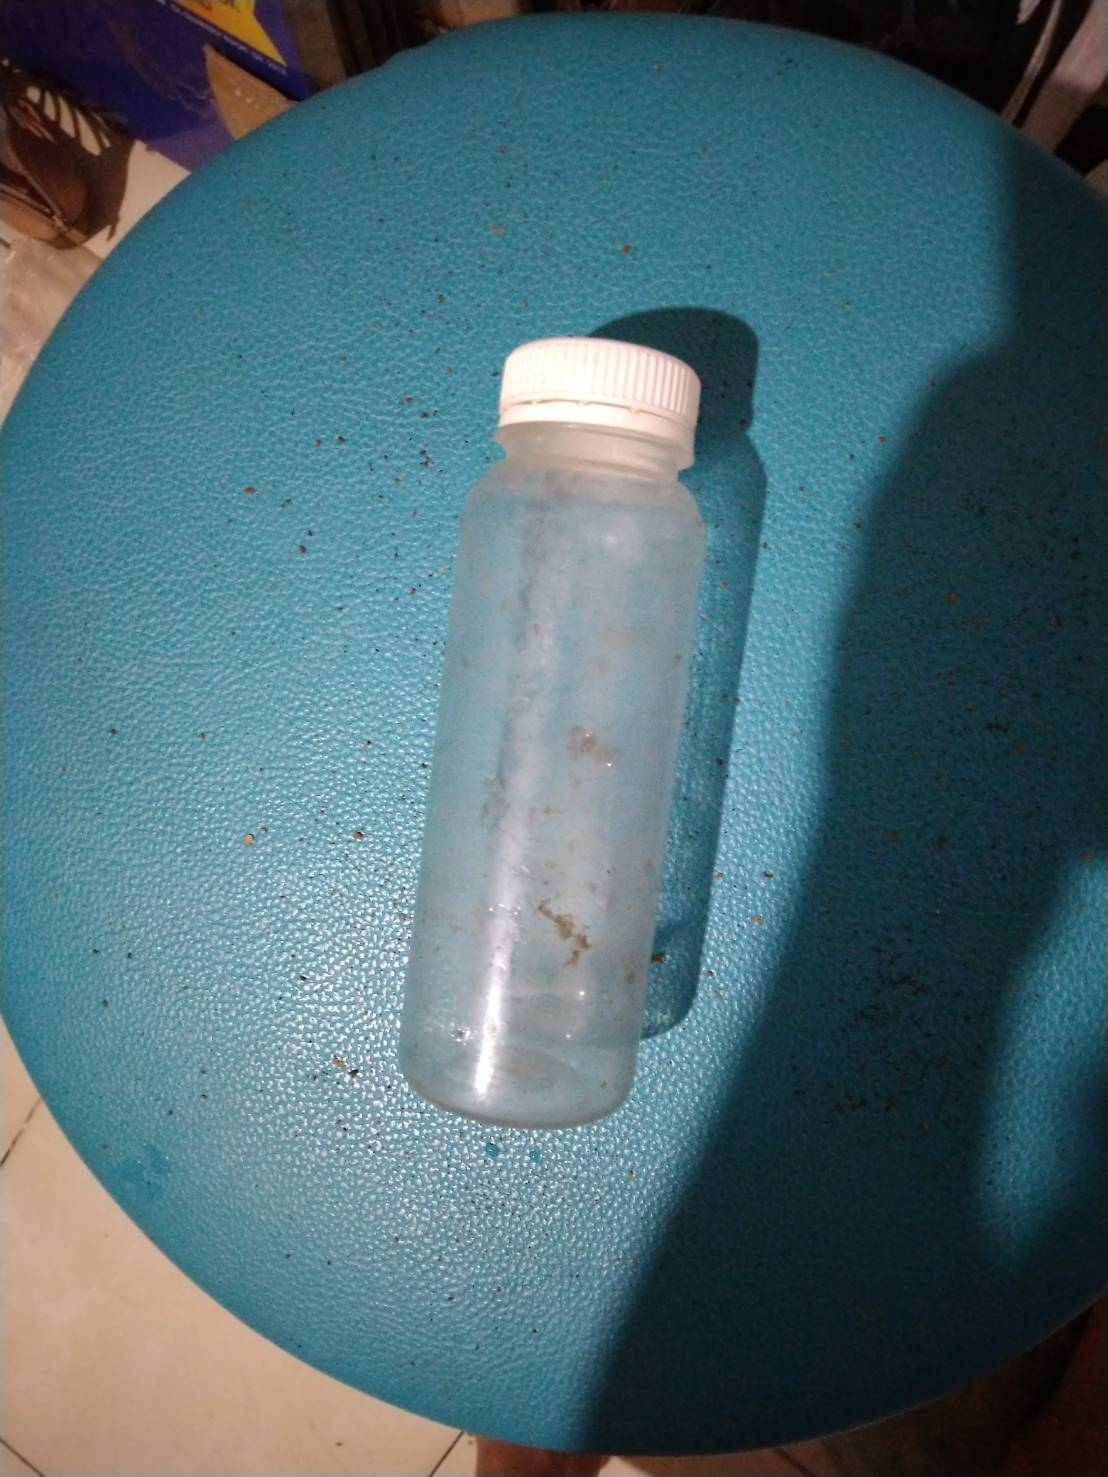HDPE: (497, 335, 701, 449)
PET: (402, 459, 703, 1132)
